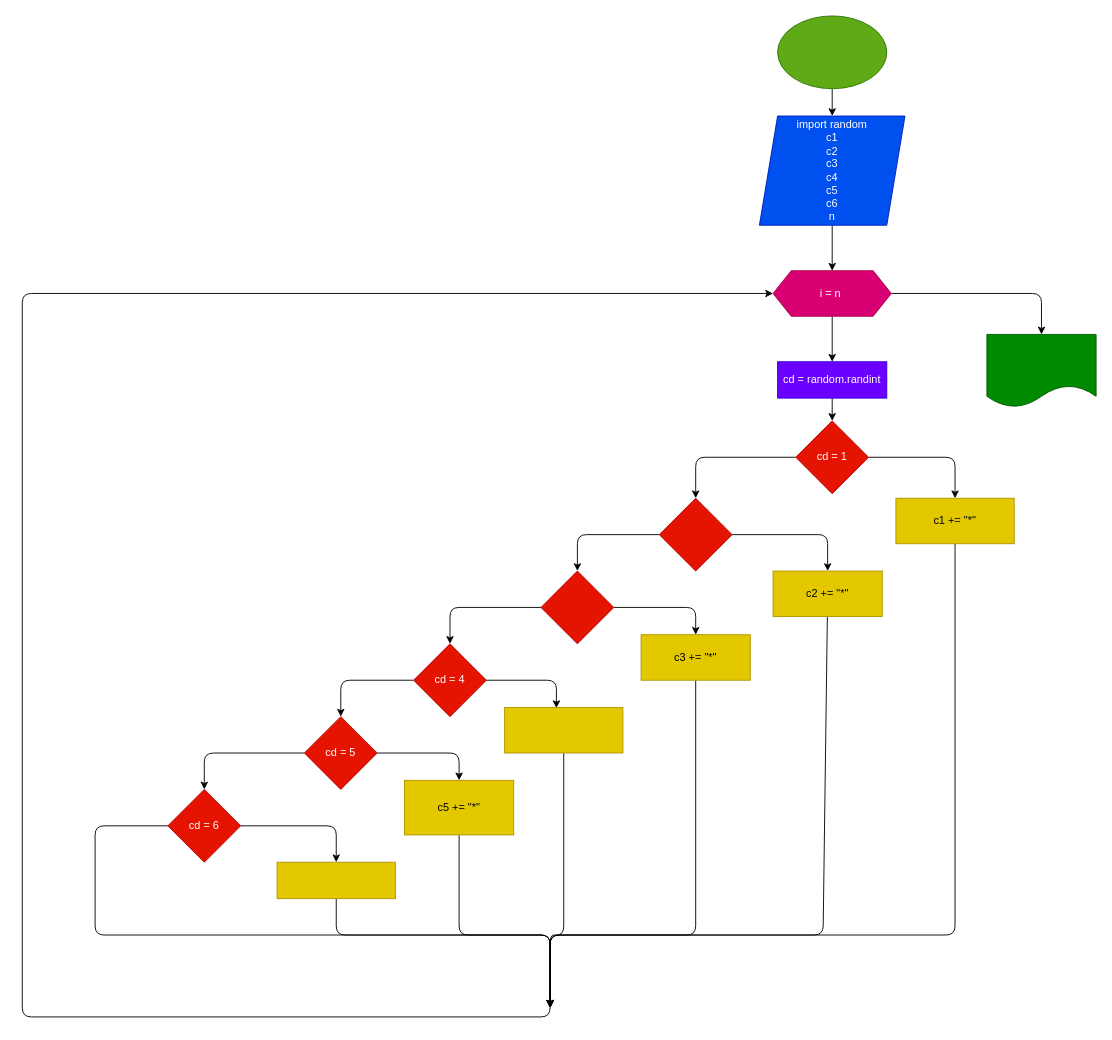
The diagram is 1112 pixels wide and 1040 high, and some of its shapes have lost their labels. Each missing label, with the centre of its shape:
c1,c2,c3,c4,c5,c6: (1041,370)
c4 += "*": (563,730)
c6 += "*": (335,880)
cd = 2: (695,534)
cd = 3: (577,607)
inicio: (832,52)
